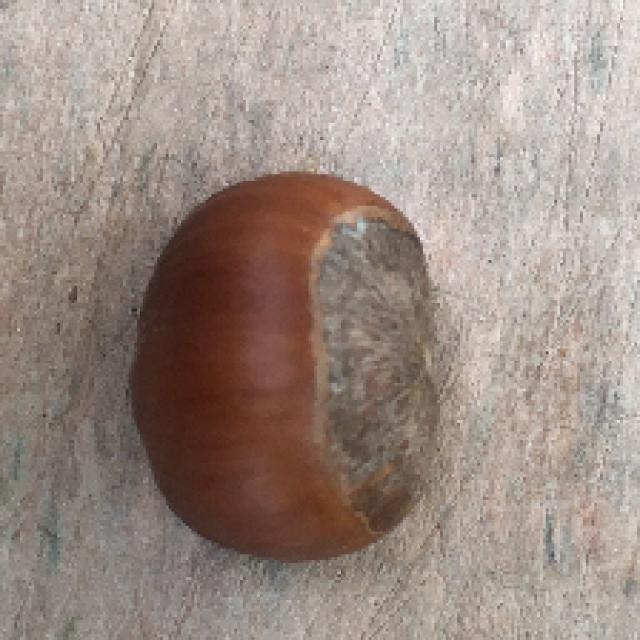DamagedHazelnut: (129, 173, 444, 557)
